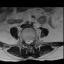CCS_severe_stenosis: (28, 36, 30, 46)
LFS_normal: (32, 36, 34, 44)
LLS_normal: (30, 37, 32, 46)
RFS_normal: (23, 37, 25, 45)
RLS_normal: (25, 37, 28, 45)
